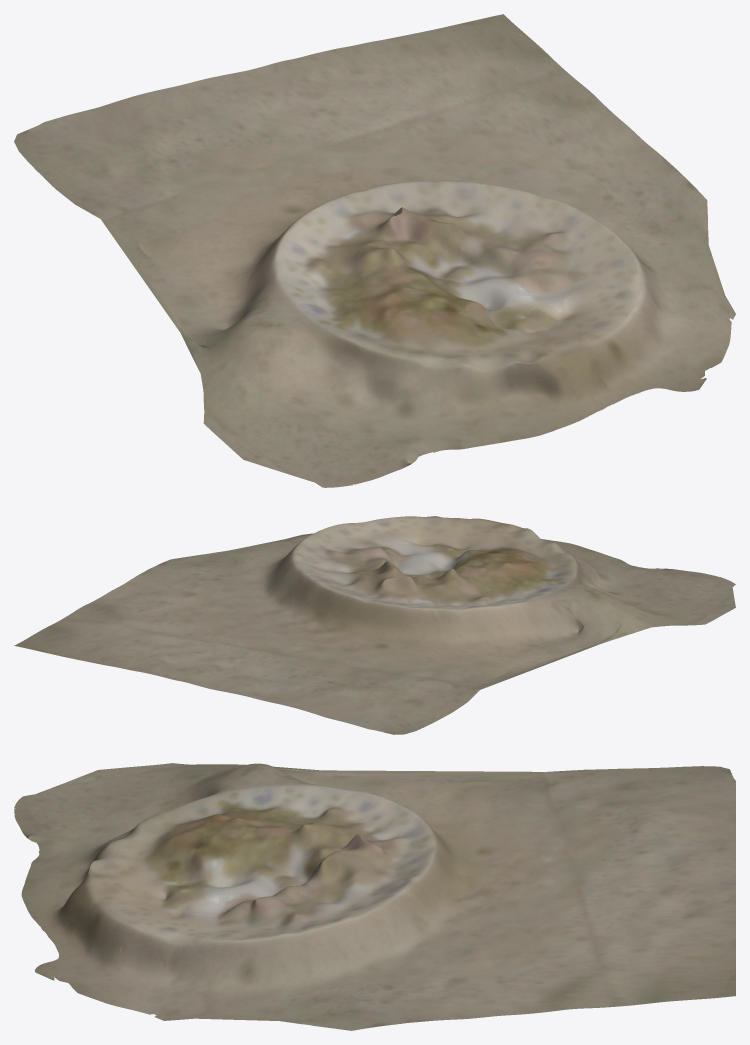
The picture shows the model from 3 angles, top to bottom: view 1: azimuth 30°, elevation 25°; view 2: azimuth 150°, elevation 25°; view 3: azimuth 270°, elevation 25°; orthographic projection. The views are drawn at different scales.
Size of the model in its own units: 1.7 by 0.2177 by 1.89.
Materials: 1 (1 with a texture image).
